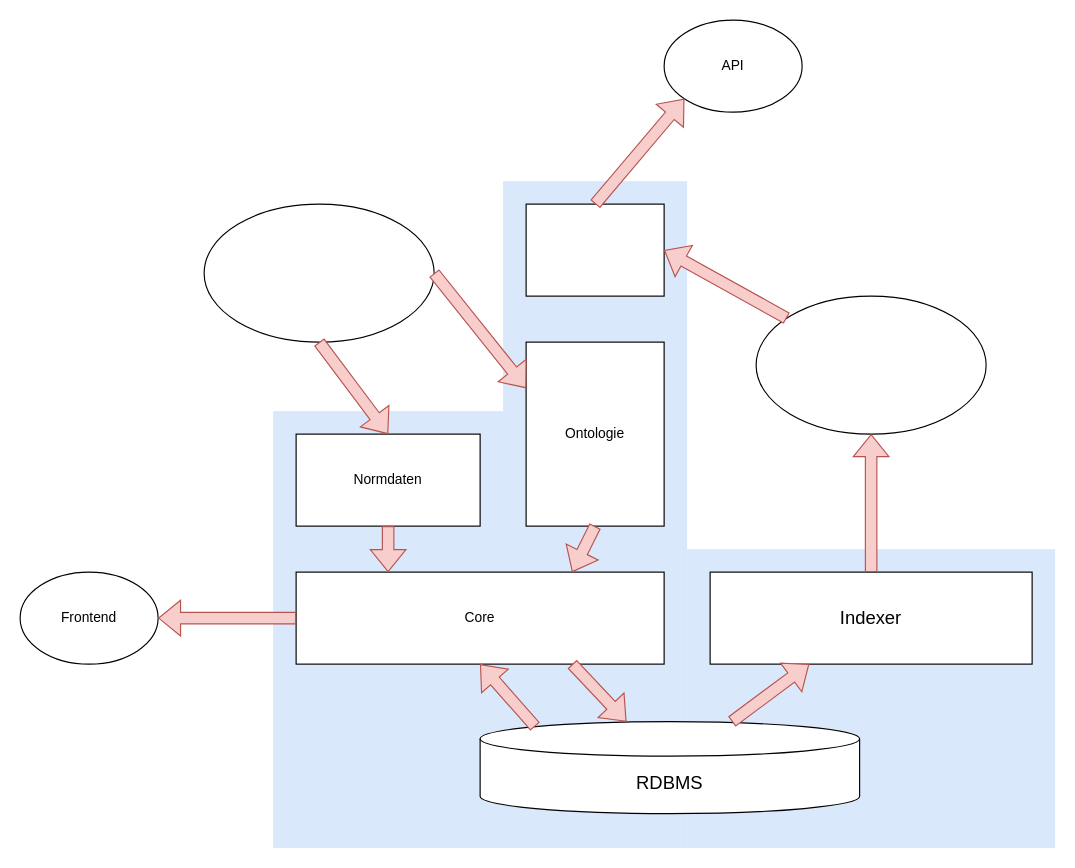
Some shapes in this 1075 by 868 pixel diagram are drawn without their labels. Here are the shapes that lost their labels. From the top down, the centre of each, then its label:
At [594,249]: "Proxy".
At [318,272]: "GND".
At [870,364]: "ElasticSearch".
